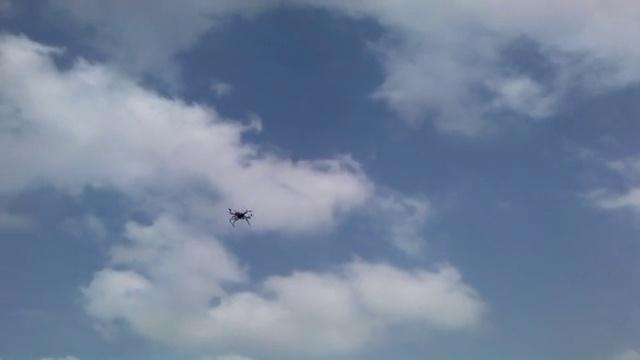drone: (223, 203, 256, 229)
